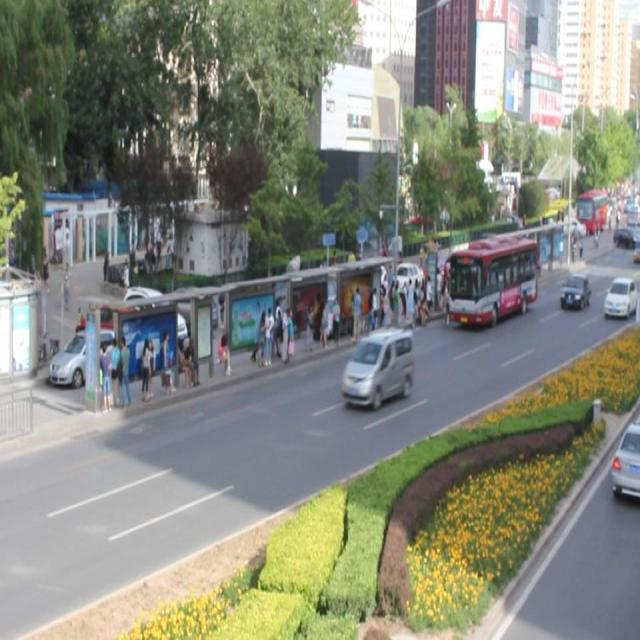car: (601, 276, 640, 317), (559, 272, 588, 310)
truck: (341, 327, 412, 407)
van: (447, 232, 536, 328)
